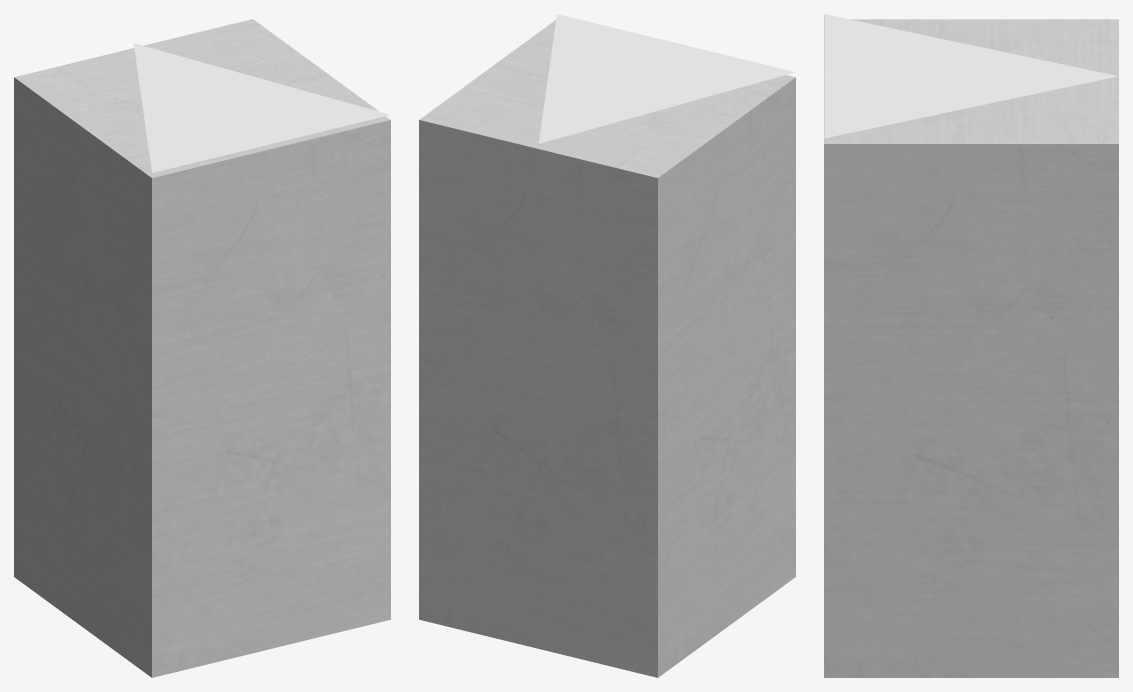
Rendered from prosthetic.obj.
3 renders of one model, left to right at view 1: azimuth 30°, elevation 25°; view 2: azimuth 150°, elevation 25°; view 3: azimuth 270°, elevation 25°, orthographic. The views are drawn at different scales.
Parts seen in each view (by area): view 1: Prosthetic1, Prosthetic2; view 2: Prosthetic1, Prosthetic2; view 3: Prosthetic1, Prosthetic2.
Part boxes in pixels (box(x1,y1,x2,y2)): Prosthetic1: box(14, 19, 390, 677); Prosthetic2: box(133, 43, 390, 172); Prosthetic1: box(419, 20, 795, 677); Prosthetic2: box(538, 14, 794, 143); Prosthetic1: box(824, 19, 1118, 677); Prosthetic2: box(824, 14, 1118, 138).
Bounding box in the file's own units: 1 × 2.02 × 1.
Materials: 2 (2 with a texture image).
